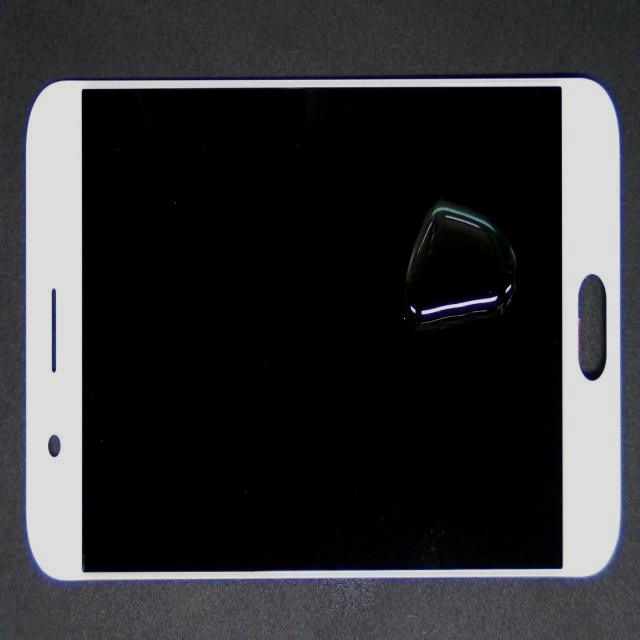oil: (200, 140, 599, 421)
